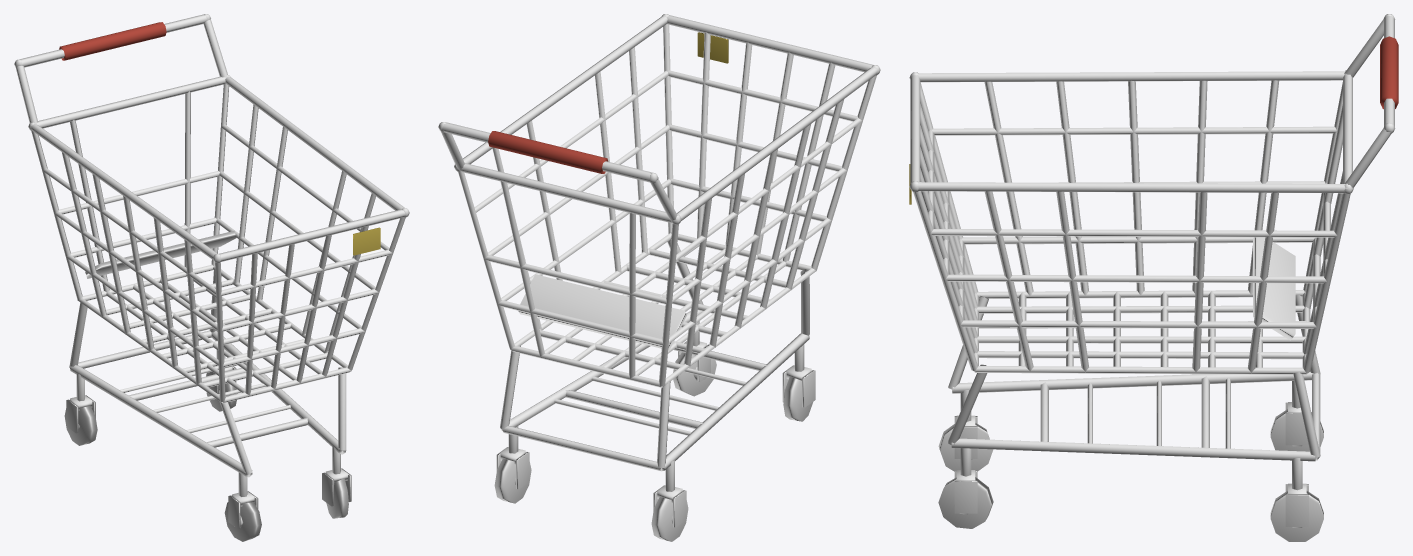
Rendered from shopping_cart.glb.
3 renders of one model, left to right at view 1: azimuth 30°, elevation 25°; view 2: azimuth 150°, elevation 25°; view 3: azimuth 270°, elevation 25°, orthographic. The views are drawn at different scales.
Parts seen in each view (by area): view 1: shopping_cart; view 2: shopping_cart; view 3: shopping_cart.
Part boxes in pixels (x1,y1,x2,y2): shopping_cart: (14, 14, 409, 541); shopping_cart: (438, 14, 880, 541); shopping_cart: (909, 14, 1398, 541).
Size of what is drawn, in the model's own units: 0.6025 by 1.04 by 1.06.
